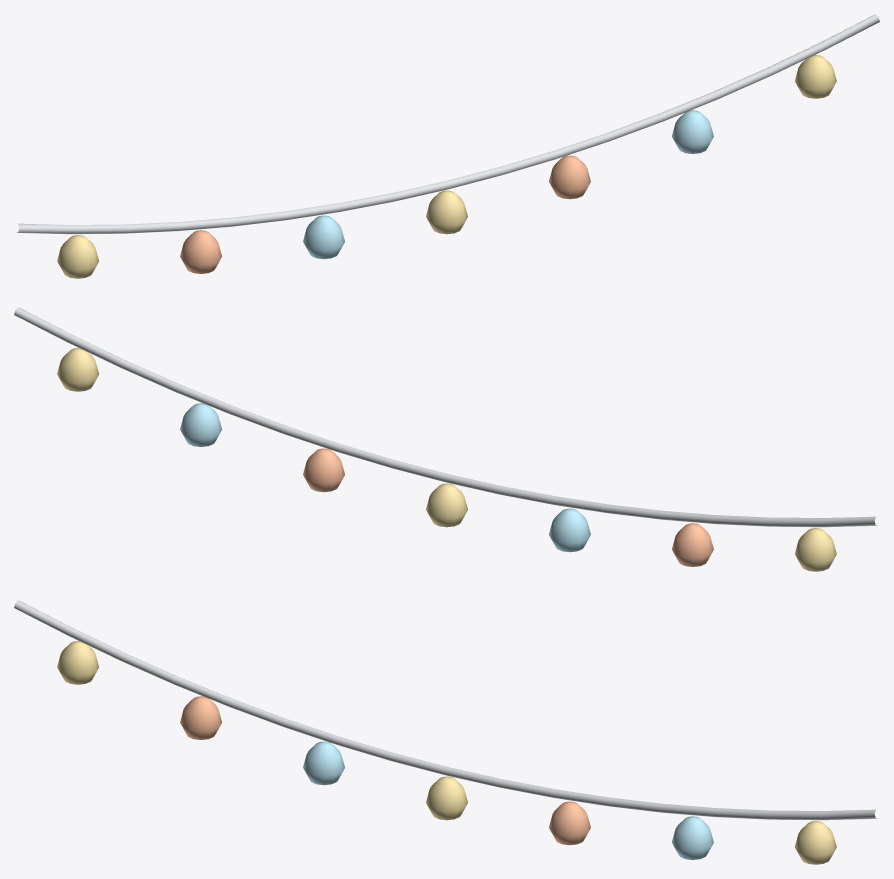
File: HotPotatoLights.glb
3 renders of one model, top to bottom at view 1: azimuth 30°, elevation 25°; view 2: azimuth 150°, elevation 25°; view 3: azimuth 330°, elevation 25°, orthographic.
Parts seen in each view (by area): view 1: Wire, BulbA, BulbB, BulbC; view 2: Wire, BulbA, BulbB, BulbC; view 3: Wire, BulbA, BulbB, BulbC.
Part boxes in pixels (<box>): Wire: <box>16,14,879,234</box>; BulbA: <box>57,55,836,278</box>; BulbB: <box>180,155,590,273</box>; BulbC: <box>303,110,713,259</box>; Wire: <box>14,307,877,527</box>; BulbA: <box>57,348,836,571</box>; BulbB: <box>303,448,713,566</box>; BulbC: <box>180,403,590,552</box>; Wire: <box>14,600,877,820</box>; BulbA: <box>57,641,836,864</box>; BulbB: <box>180,696,590,845</box>; BulbC: <box>303,741,713,859</box>.
Bounding box in the file's own units: 8.02 × 1.01 × 0.34.
